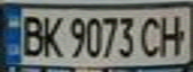0: (84, 14, 103, 58)
3: (115, 13, 139, 60)
7: (100, 14, 121, 58)
9: (63, 12, 87, 59)
B: (15, 11, 48, 57)
C: (136, 12, 166, 59)
H: (157, 11, 190, 57)
K: (36, 11, 66, 58)
